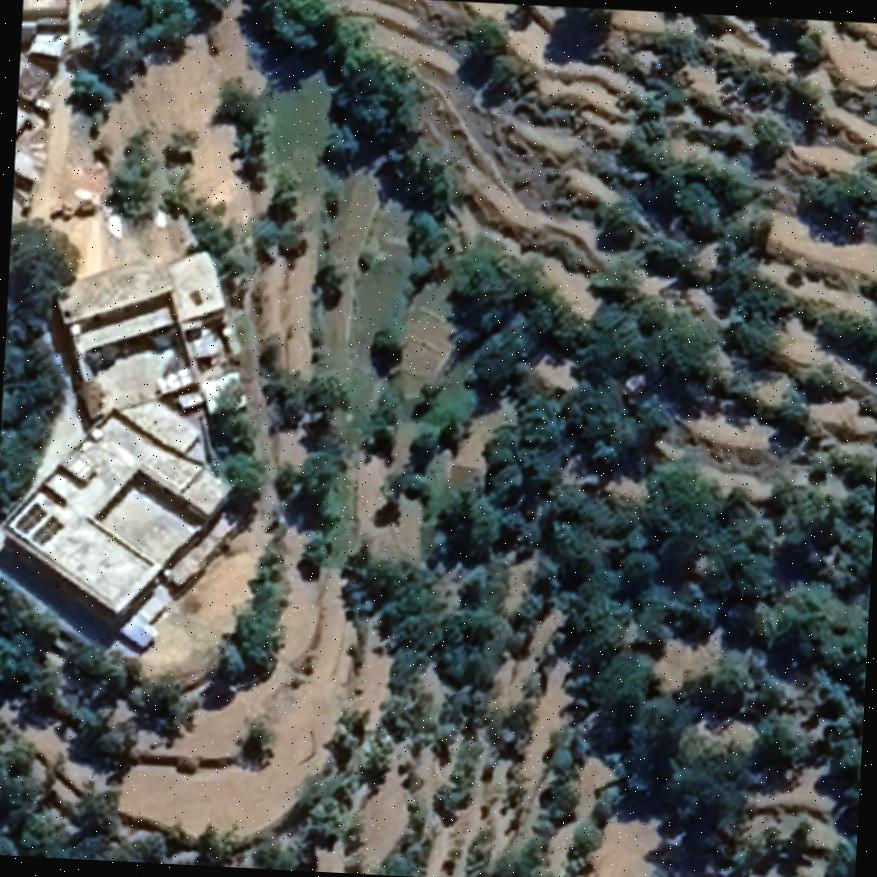Solarpanel: (23, 514, 69, 548), (5, 499, 47, 532)
